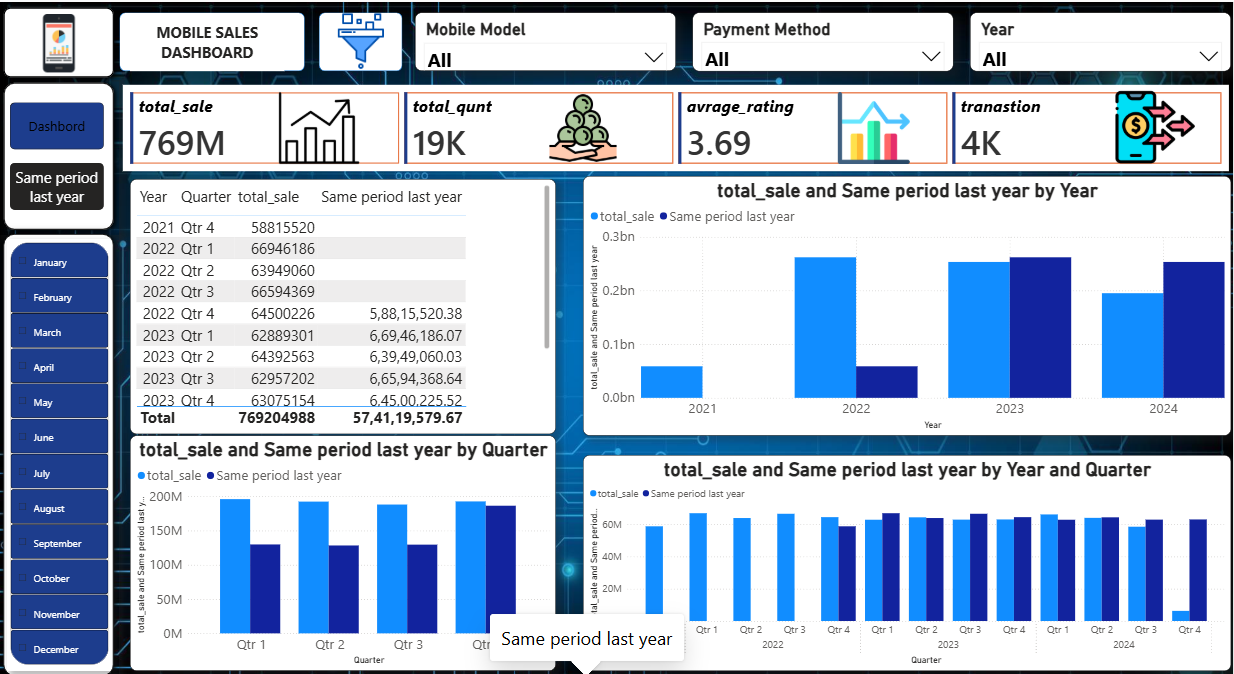

Layout of this report page (visuals, bound fields, positions):
{"tool":"powerbi","page":{"name":"Same period last year","canvas":[2000,1100],"ordinal":2},"visuals":[{"type":"shape","box":[0,0,196.8,131.2],"z":0},{"type":"shape","box":[0,122.3,196.9,256.9],"z":1000},{"type":"shape","box":[0,366.7,196.3,733.3],"z":2000},{"type":"image","box":[0,19.4,196.8,94.8],"z":3000},{"type":"cardVisual","fields":{"Data":["sales_data.total_sale","sales_data.total_qunt","sales_data.avrage_rating","sales_data.tranastion"]},"box":[197.5,130,1802.5,150],"z":4000},{"type":"image","box":[797.1,145.8,301.3,116.6],"z":5000},{"type":"image","box":[381.5,121.5,277,165.2],"z":6000},{"type":"image","box":[1749.7,138.5,250.3,128.8],"z":7000},{"type":"image","box":[1261.2,145.8,315.9,116.6],"z":8000},{"type":"slicer","fields":{"Values":["sales_data.Payment Method"]},"box":[1125,17.5,422.5,95],"z":9000},{"type":"slicer","fields":{"Values":["custom calender.date.Variation.Date Hierarchy.Year"]},"box":[1575,17.5,422.5,95],"z":10000},{"type":"slicer","fields":{"Values":["sales_data.Mobile Model"]},"box":[675.6,17,422.8,94.8],"z":11000},{"type":"shape","box":[520,17.5,135,95],"z":12000},{"type":"image","box":[507.5,17.5,160,92.5],"z":13000},{"type":"shape","box":[197.5,17.5,300,95],"z":14000},{"type":"textbox","box":[215,27.5,250,85],"z":15000},{"type":"pageNavigator","box":[20,162.5,152.5,175],"z":17000},{"type":"advancedSlicerVisual","fields":{"Values":["custom calender.date.Variation.Date Hierarchy.Month"]},"box":[14.6,384,170.1,699.9],"z":18000},{"type":"tableEx","fields":{"Values":["custom calender.date.Variation.Date Hierarchy.Year","custom calender.date.Variation.Date Hierarchy.Quarter","sales_data.total_sale","sales_data.Same period last year"]},"box":[213.8,286.8,690.1,413.1],"z":18001},{"type":"clusteredColumnChart","fields":{"Category":["custom calender.date.Variation.Date Hierarchy.Year","custom calender.date.Variation.Date Hierarchy.Quarter"],"Y":["sales_data.total_sale","sales_data.Same period last year"]},"box":[947.7,281.9,1049.8,420.4],"z":18002},{"type":"clusteredColumnChart","fields":{"Category":["custom calender.date.Variation.Date Hierarchy.Year","custom calender.date.Variation.Date Hierarchy.Quarter"],"Y":["sales_data.total_sale","sales_data.Same period last year"]},"box":[213.8,702.3,690.1,381.5],"z":18003},{"type":"clusteredColumnChart","fields":{"Category":["custom calender.date.Variation.Date Hierarchy.Year","custom calender.date.Variation.Date Hierarchy.Quarter"],"Y":["sales_data.total_sale","sales_data.Same period last year"]},"box":[947.7,733.9,1049.8,349.9],"z":18004}]}

Visuals, with their boxes on the page's 2000x1100 design canvas (x1, y1, x2, y2). These are canvas units, not pixel positions in the 1234x674 screenshot, which may show the page scaled, cropped or inside an application window:
shape: [left=0, top=0, right=197, bottom=131]
shape: [left=0, top=122, right=197, bottom=379]
shape: [left=0, top=367, right=196, bottom=1100]
image: [left=0, top=19, right=197, bottom=114]
cardVisual - sales_data.total_sale x sales_data.total_qunt: [left=198, top=130, right=2000, bottom=280]
image: [left=797, top=146, right=1098, bottom=262]
image: [left=382, top=122, right=658, bottom=287]
image: [left=1750, top=138, right=2000, bottom=267]
image: [left=1261, top=146, right=1577, bottom=262]
slicer - sales_data.Payment Method: [left=1125, top=18, right=1548, bottom=112]
slicer - custom calender.date.Variation.Date Hierarchy.Year: [left=1575, top=18, right=1998, bottom=112]
slicer - sales_data.Mobile Model: [left=676, top=17, right=1098, bottom=112]
shape: [left=520, top=18, right=655, bottom=112]
image: [left=508, top=18, right=668, bottom=110]
shape: [left=198, top=18, right=498, bottom=112]
textbox: [left=215, top=28, right=465, bottom=112]
pageNavigator: [left=20, top=162, right=172, bottom=338]
advancedSlicerVisual - custom calender.date.Variation.Date Hierarchy.Month: [left=15, top=384, right=185, bottom=1084]
tableEx - custom calender.date.Variation.Date Hierarchy.Year x custom calender.date.Variation.Date Hierarchy.Quarter: [left=214, top=287, right=904, bottom=700]
clusteredColumnChart - custom calender.date.Variation.Date Hierarchy.Year x custom calender.date.Variation.Date Hierarchy.Quarter: [left=948, top=282, right=1998, bottom=702]
clusteredColumnChart - custom calender.date.Variation.Date Hierarchy.Year x custom calender.date.Variation.Date Hierarchy.Quarter: [left=214, top=702, right=904, bottom=1084]
clusteredColumnChart - custom calender.date.Variation.Date Hierarchy.Year x custom calender.date.Variation.Date Hierarchy.Quarter: [left=948, top=734, right=1998, bottom=1084]
